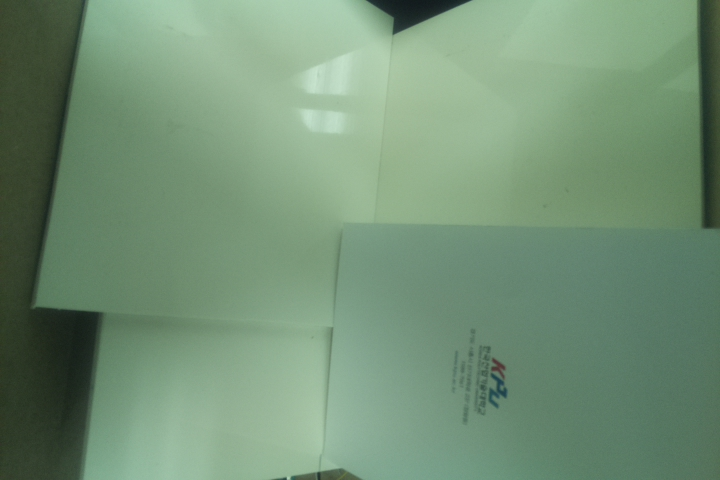book: (318, 216, 720, 479)
